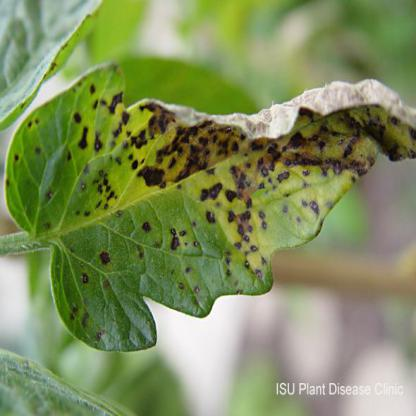tomato septoria leaf spot: (2, 46, 412, 360)
